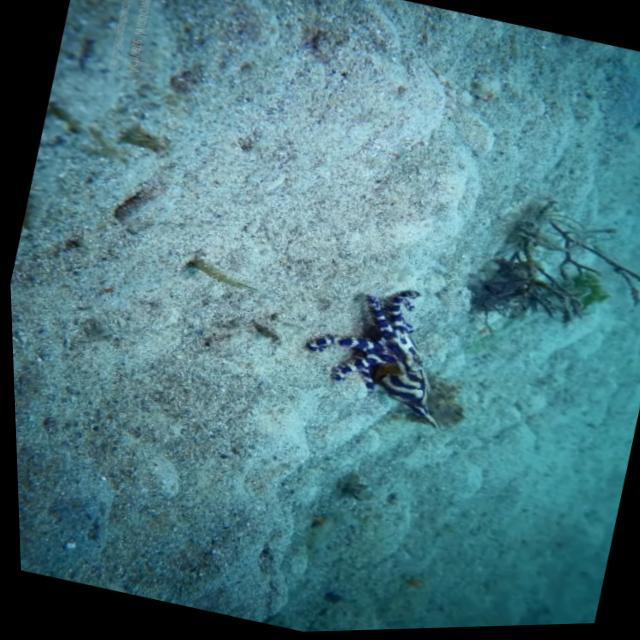blue_ringed_octopus: (287, 265, 473, 437)
